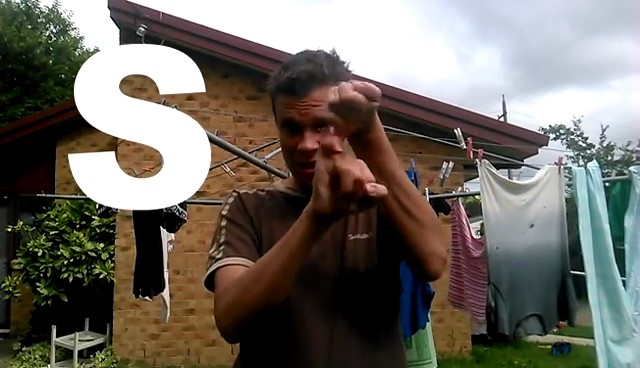S: (298, 70, 396, 227)
